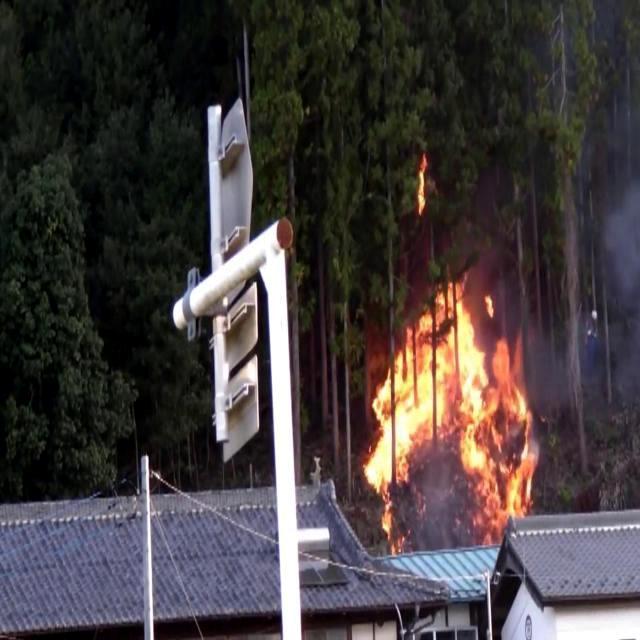Fire: (362, 277, 534, 552), (414, 157, 432, 223)
Smoke: (585, 189, 640, 298)
